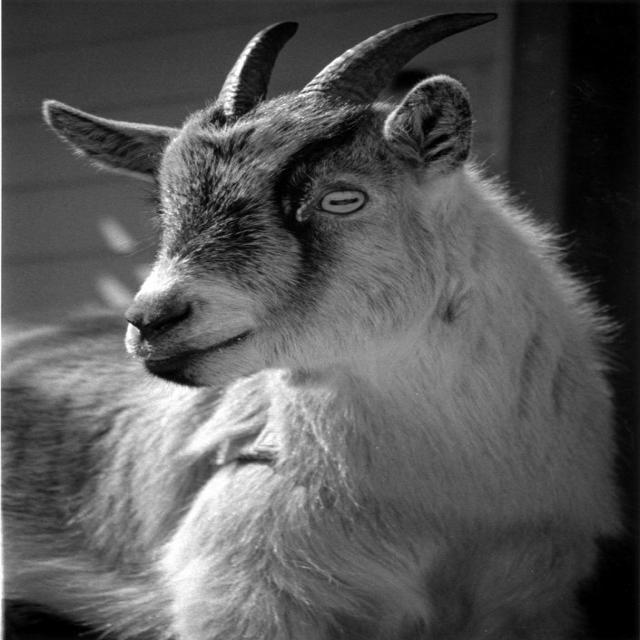Goat: (0, 5, 613, 639)
